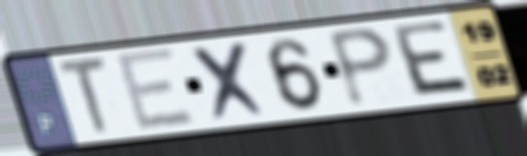6: (263, 35, 327, 114)
E: (111, 45, 200, 136), (391, 18, 477, 99)
P: (324, 24, 397, 111)
T: (54, 53, 113, 139)
X: (187, 38, 276, 125)
